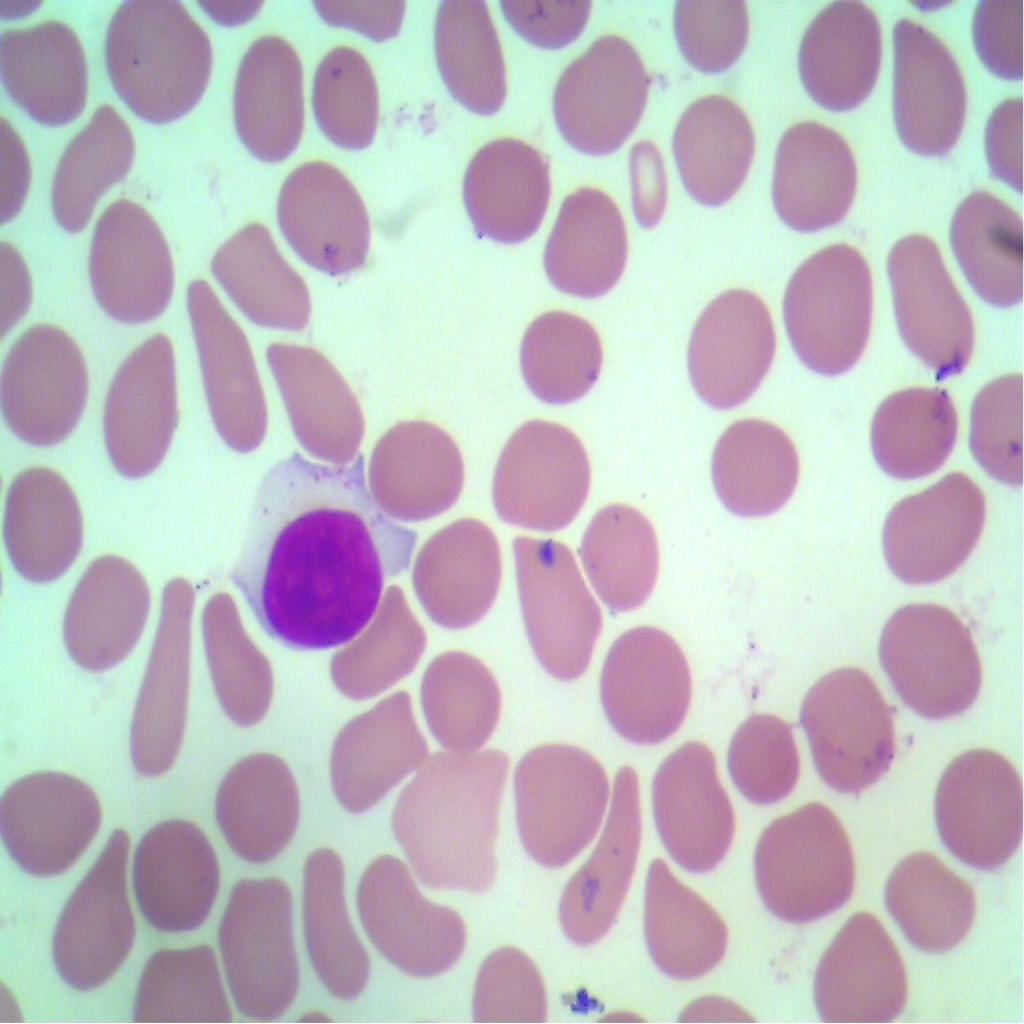Eritrosit: (866, 456, 998, 594), (180, 269, 270, 461), (124, 561, 198, 787), (354, 845, 478, 978), (748, 788, 871, 922), (394, 738, 508, 878), (598, 607, 706, 754), (98, 0, 213, 135), (874, 12, 978, 161), (882, 225, 979, 382), (776, 230, 876, 382), (539, 35, 661, 159), (513, 518, 604, 684), (263, 328, 369, 470), (698, 398, 812, 525), (562, 758, 638, 945), (806, 897, 918, 1023), (878, 589, 984, 721), (58, 823, 139, 992), (218, 864, 304, 1023), (208, 214, 321, 335), (289, 837, 369, 1005), (266, 154, 376, 274), (686, 277, 782, 412), (764, 108, 859, 244), (484, 422, 598, 534), (664, 94, 770, 214), (194, 578, 278, 729), (0, 322, 94, 455), (452, 128, 558, 245), (426, 0, 526, 124), (322, 685, 430, 799), (408, 495, 502, 625), (650, 738, 741, 872), (802, 671, 903, 791), (99, 329, 178, 481), (0, 8, 95, 134), (516, 732, 608, 861), (44, 114, 139, 238), (83, 191, 175, 319), (534, 178, 626, 304), (63, 548, 153, 675), (786, 0, 883, 117), (648, 851, 729, 991), (939, 738, 1023, 871), (0, 768, 109, 870), (210, 744, 300, 867), (368, 414, 469, 521), (863, 372, 961, 482), (511, 305, 611, 412), (131, 808, 222, 925), (224, 31, 304, 164), (0, 465, 88, 584), (321, 589, 423, 688), (949, 174, 1023, 308), (575, 498, 664, 608), (299, 40, 384, 150), (878, 847, 968, 950), (722, 711, 808, 814), (421, 644, 499, 744), (138, 942, 230, 1023), (471, 931, 551, 1023), (664, 0, 754, 67), (629, 130, 671, 239)
Limfosit: (246, 488, 394, 652)
Platelet: (529, 531, 578, 578)
